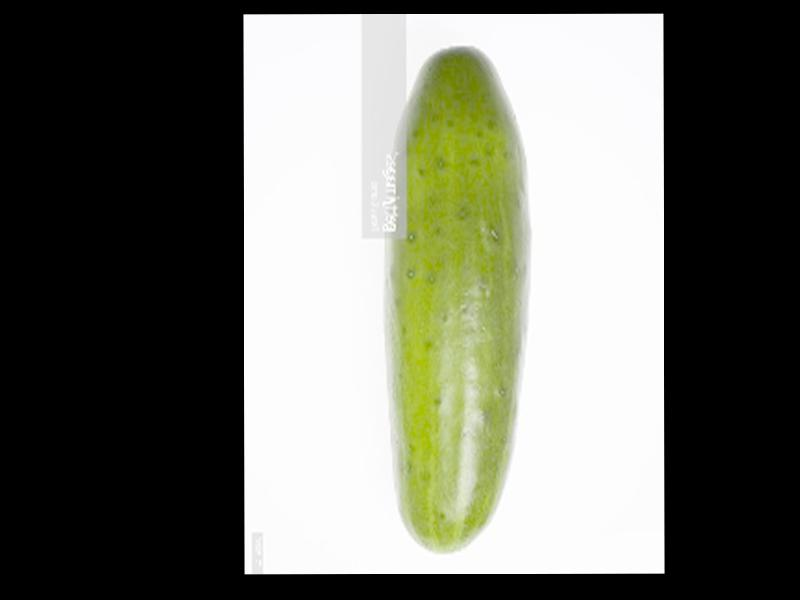Cucumber: (383, 40, 532, 556)
